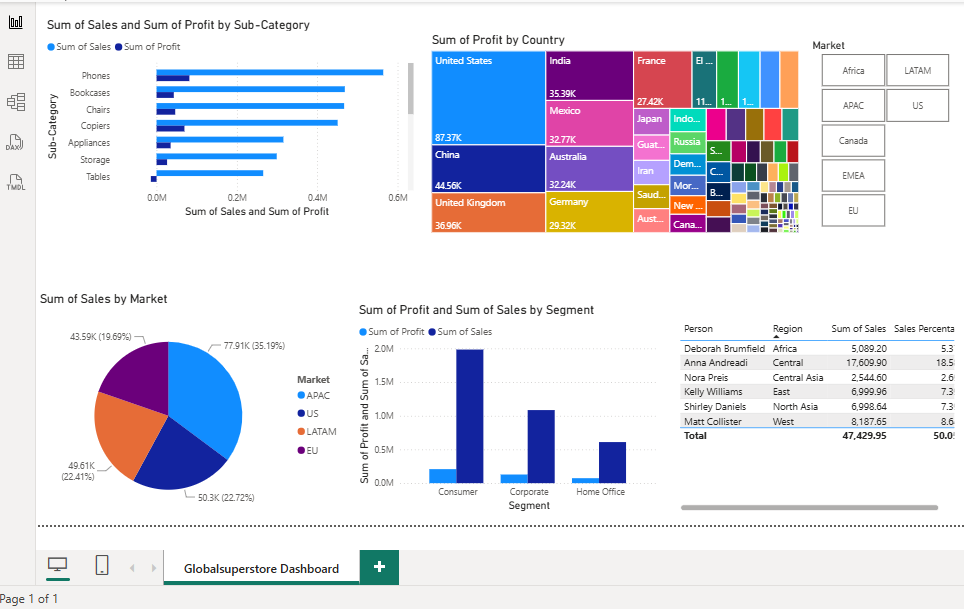

This screenshot's page, from the dashboard's own definition file:
{"tool":"powerbi","page":{"name":"Globalsuperstore Dashboard","canvas":[1280,720],"ordinal":0},"visuals":[{"type":"clusteredBarChart","fields":{"Category":["Orders.Sub-Category","Orders.Category"],"Y":["Sum(Orders.Sales)","Sum(Orders.Profit)"]},"box":[10.2,20.5,515.1,281],"z":0},{"type":"pieChart","fields":{"Category":["Orders.Market"],"Y":["Sum(Orders.Sales)"]},"box":[0,398.1,428.3,322.5],"z":1000},{"type":"tableEx","fields":{"Values":["People.Person","Orders.Region","Sum(Orders.Sales)","Orders.Sales Percentage"]},"box":[880.2,433.4,388,272.1],"z":2000},{"type":"treemap","fields":{"Group":["Orders.Country"],"Values":["Sum(Orders.Profit)"]},"box":[540,41,515.1,281],"z":3000},{"type":"clusteredColumnChart","fields":{"Y":["Sum(Orders.Profit)","Sum(Orders.Sales)"],"Category":["Orders.Segment"]},"box":[439,412.7,421.5,292.7],"z":4000},{"type":"slicer","fields":{"Values":["Orders.Market"]},"box":[1055.1,46.8,225.4,269.3],"z":5000}]}

Visuals, with their boxes on the page's 1280x720 design canvas (x1, y1, x2, y2). These are canvas units, not pixel positions in the 964x609 screenshot, which may show the page scaled, cropped or inside an application window:
clusteredBarChart - Orders.Sub-Category x Orders.Category: left=10, top=20, right=525, bottom=302
pieChart - Orders.Market x Sum(Orders.Sales): left=0, top=398, right=428, bottom=721
tableEx - People.Person x Orders.Region: left=880, top=433, right=1268, bottom=706
treemap - Orders.Country x Sum(Orders.Profit): left=540, top=41, right=1055, bottom=322
clusteredColumnChart - Sum(Orders.Profit) x Sum(Orders.Sales): left=439, top=413, right=860, bottom=705
slicer - Orders.Market: left=1055, top=47, right=1280, bottom=316
